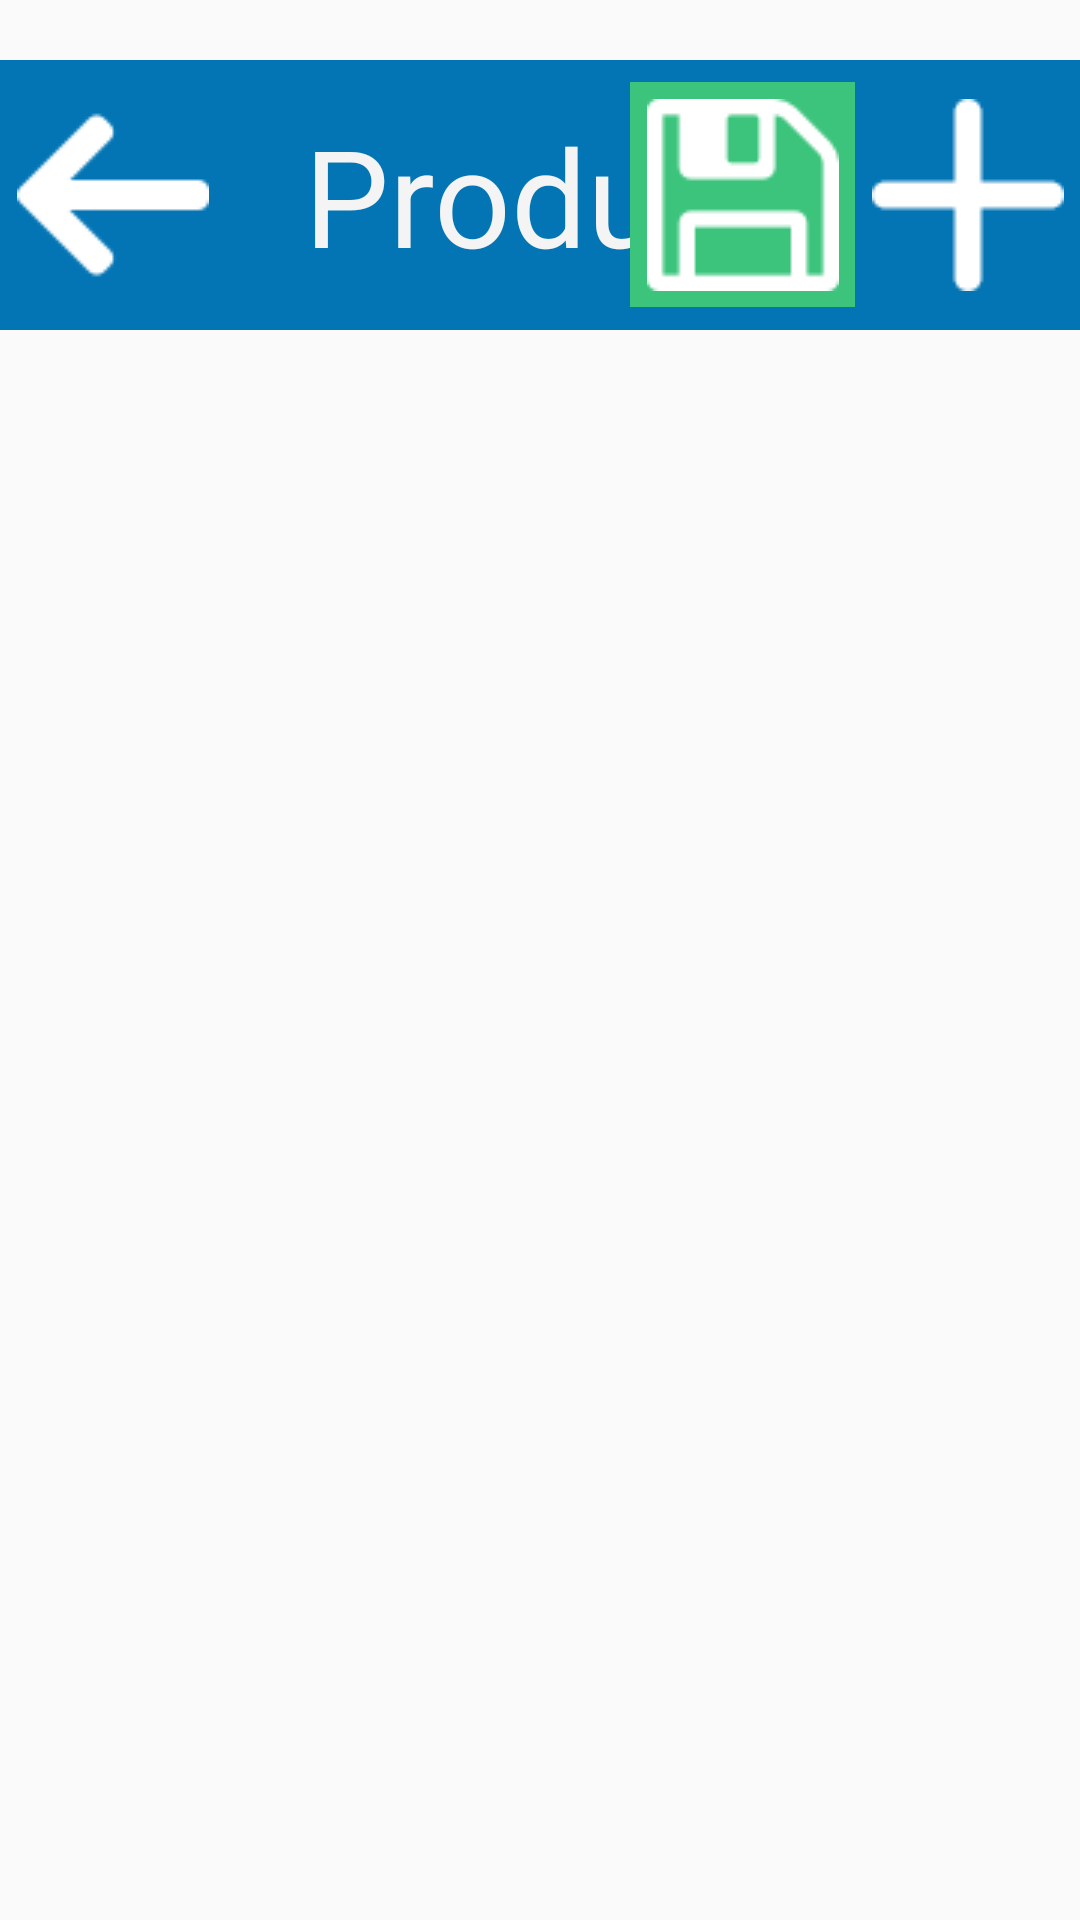

Where icons sit on this 1080 × 1920 app screen, as (x1, y1, x2, y2):
add: (872, 99, 1064, 291)
Back: (17, 113, 209, 277)
save: (630, 82, 855, 307)
